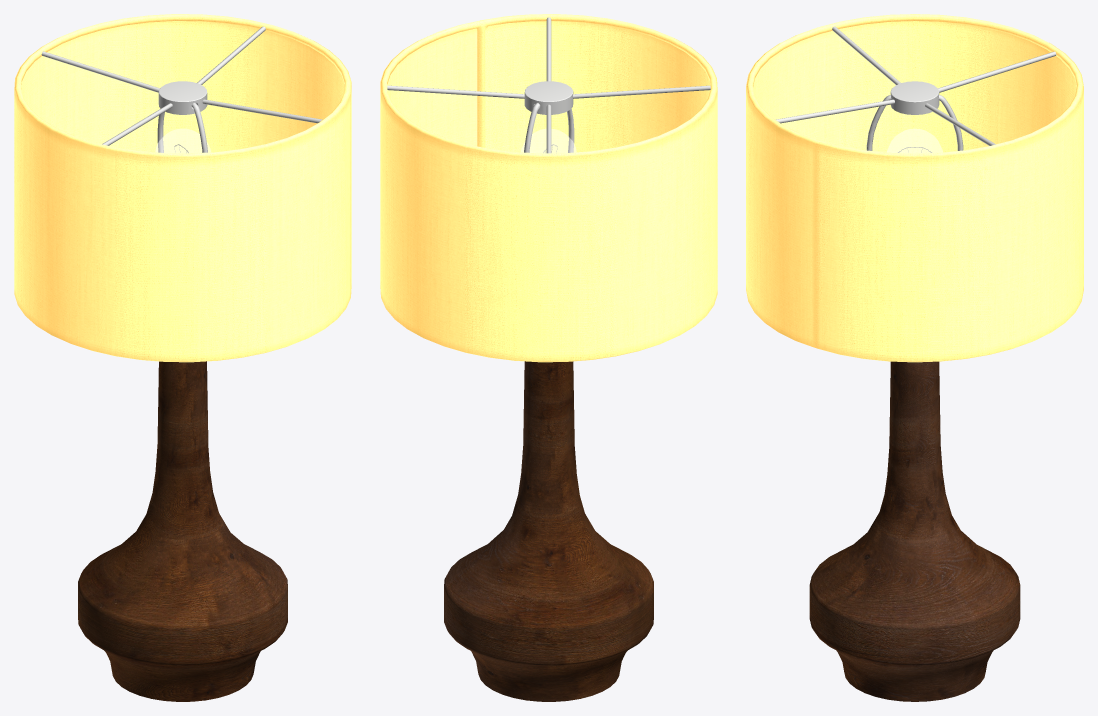
The model's file is lamp.glb.
The picture shows the model from 3 angles, left to right: view 1: azimuth 30°, elevation 25°; view 2: azimuth 150°, elevation 25°; view 3: azimuth 270°, elevation 25°; orthographic projection.
Parts seen in each view (by area): view 1: lamp2a_shade, lamp2a_main, lamp2a_glass; view 2: lamp2a_shade, lamp2a_main, lamp2a_glass; view 3: lamp2a_shade, lamp2a_main, lamp2a_glass.
Part boxes in pixels (x1,y1,x2,y2): lamp2a_shade: (14,14,351,362); lamp2a_main: (41,26,322,701); lamp2a_glass: (155,128,210,153); lamp2a_shade: (380,14,717,362); lamp2a_main: (387,17,710,701); lamp2a_glass: (521,128,576,153); lamp2a_shade: (746,14,1083,362); lamp2a_main: (775,26,1056,701); lamp2a_glass: (887,128,942,153).
Bounding box in the file's own units: 0.3468 × 0.6667 × 0.3468.
Materials: 3 (2 with a texture image).
